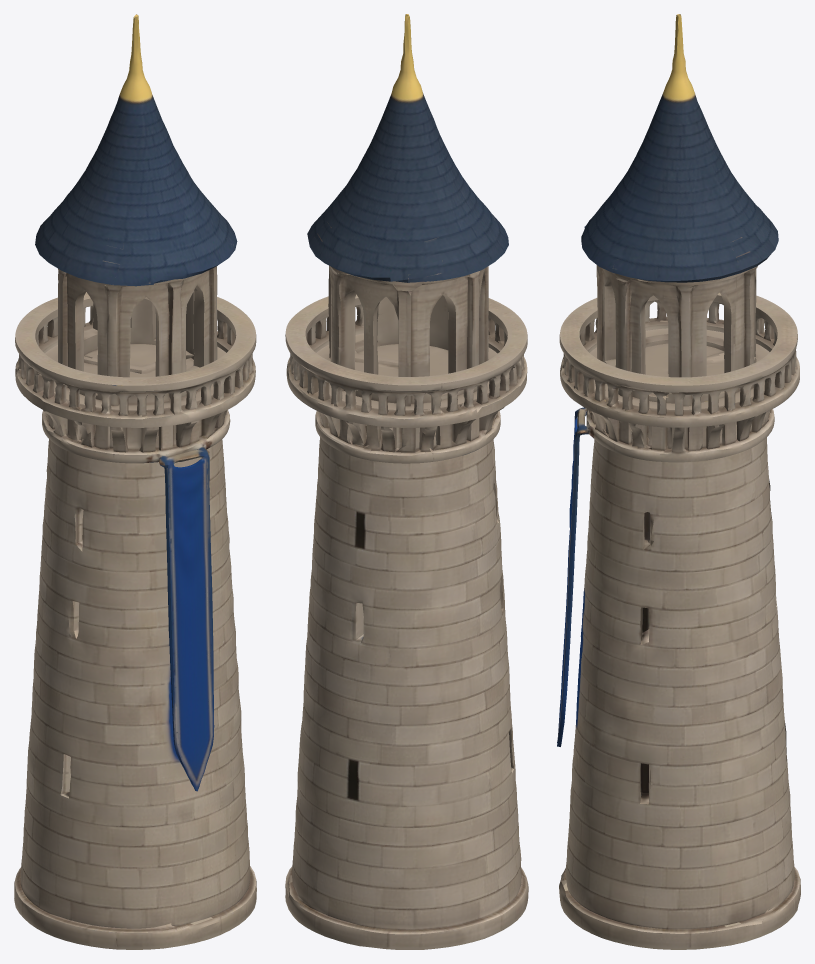
Rendered from cloudreach_aviary_belvedere_tower.glb.
3 renders of one model, left to right at view 1: azimuth 30°, elevation 25°; view 2: azimuth 150°, elevation 25°; view 3: azimuth 270°, elevation 25°, orthographic.
Parts seen in each view (by area): view 1: Mesh_0; view 2: Mesh_0; view 3: Mesh_0.
Part boxes in pixels (x1=…): Mesh_0: x1=14, y1=14, x2=256, y2=949; Mesh_0: x1=285, y1=14, x2=528, y2=949; Mesh_0: x1=557, y1=14, x2=800, y2=949.
Bounding box in the file's own units: 0.4737 × 1.9 × 0.4749.
1 material, 1 textured.
